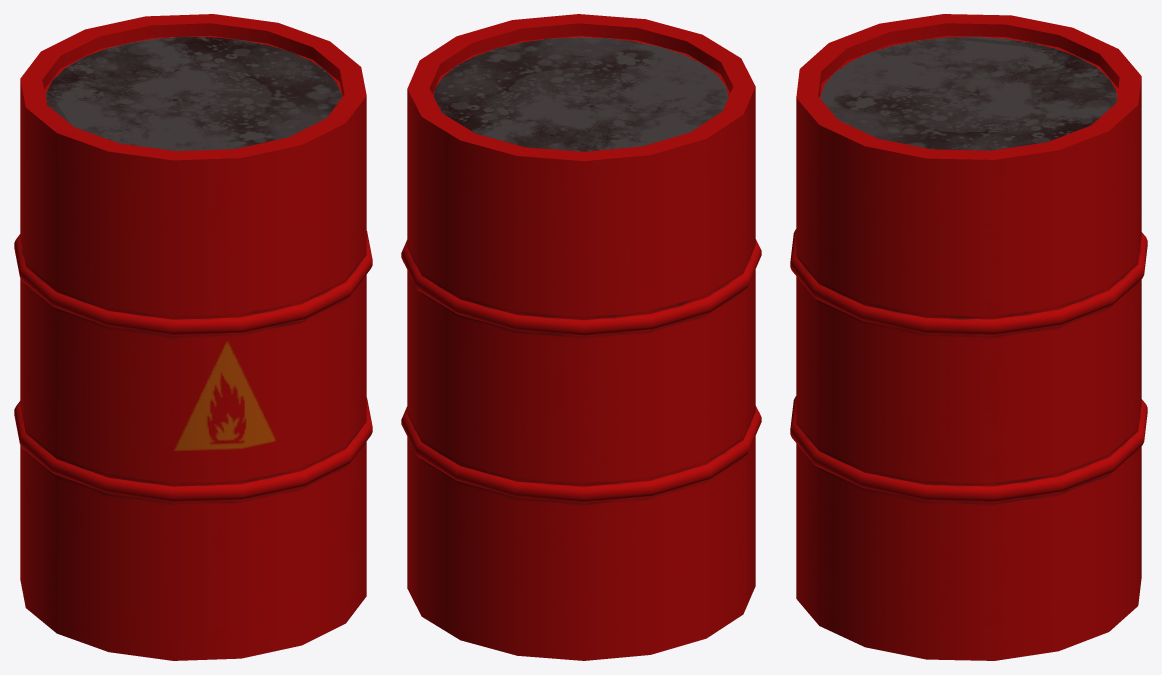
File: GasBarrel.fbx
3 views of the same model, side by side, from view 1: azimuth 30°, elevation 25°; view 2: azimuth 150°, elevation 25°; view 3: azimuth 270°, elevation 25° (orthographic).
Parts seen in each view (by area): view 1: GasBarrel; view 2: GasBarrel; view 3: GasBarrel.
Boxes of the visible parts, x1=… form: GasBarrel: x1=14, y1=14, x2=372, y2=660; GasBarrel: x1=401, y1=14, x2=761, y2=660; GasBarrel: x1=790, y1=14, x2=1147, y2=660.
Bounding box in the file's own units: 0.6143 × 0.95 × 0.6143.
